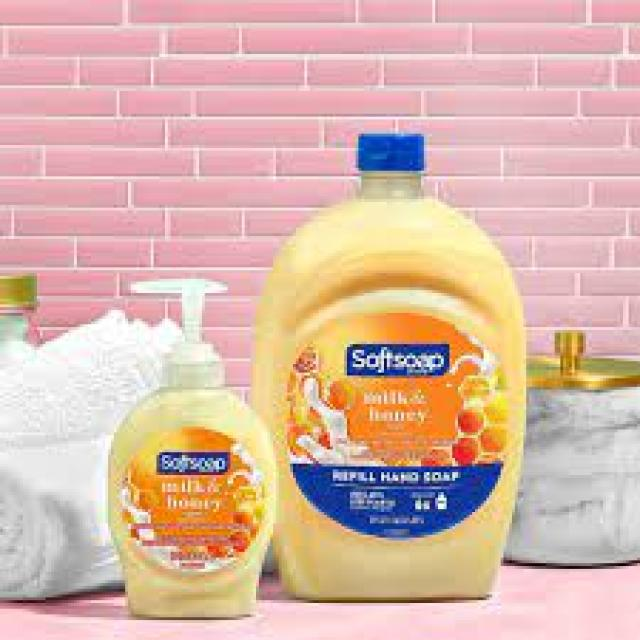liquid soap: (258, 130, 536, 606), (100, 274, 286, 630)
